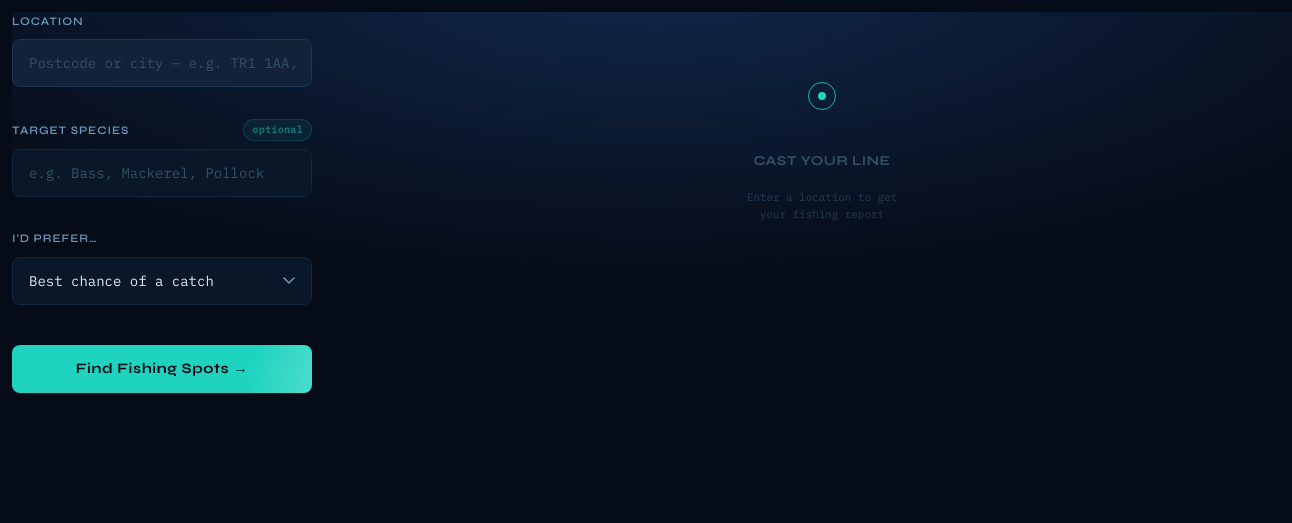
Test case: FishingForm › error state › shows a connection error message on a network failure
Type "TR1 1AA" into the field labelled "Location" at (162, 63), box left=12, top=39, right=312, bottom=87
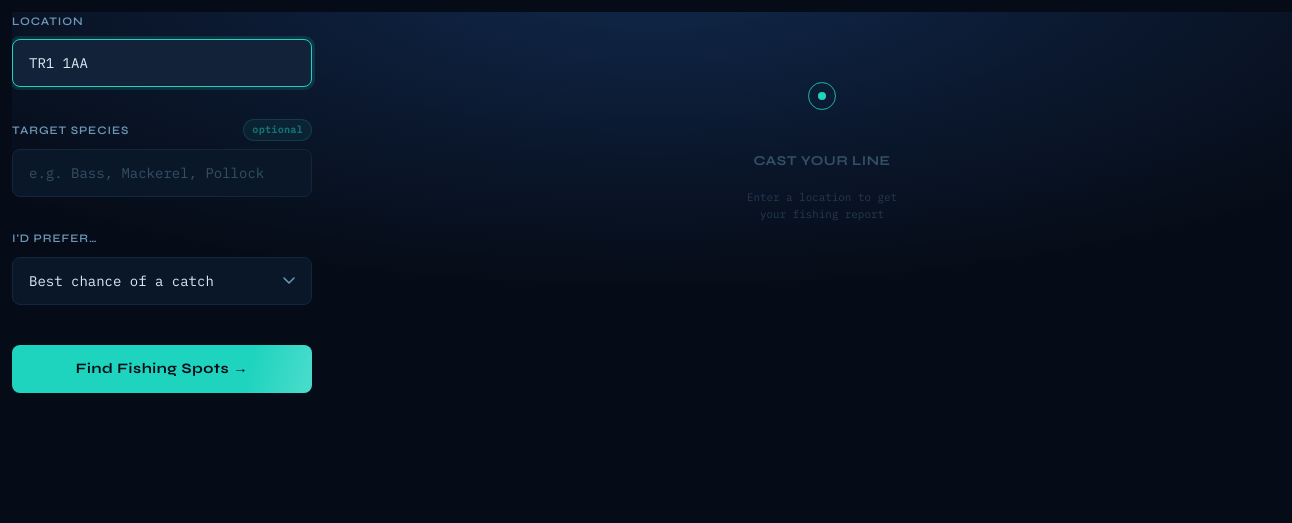
Click the button "Find Fishing Spots →" at (162, 369), box left=12, top=345, right=312, bottom=393
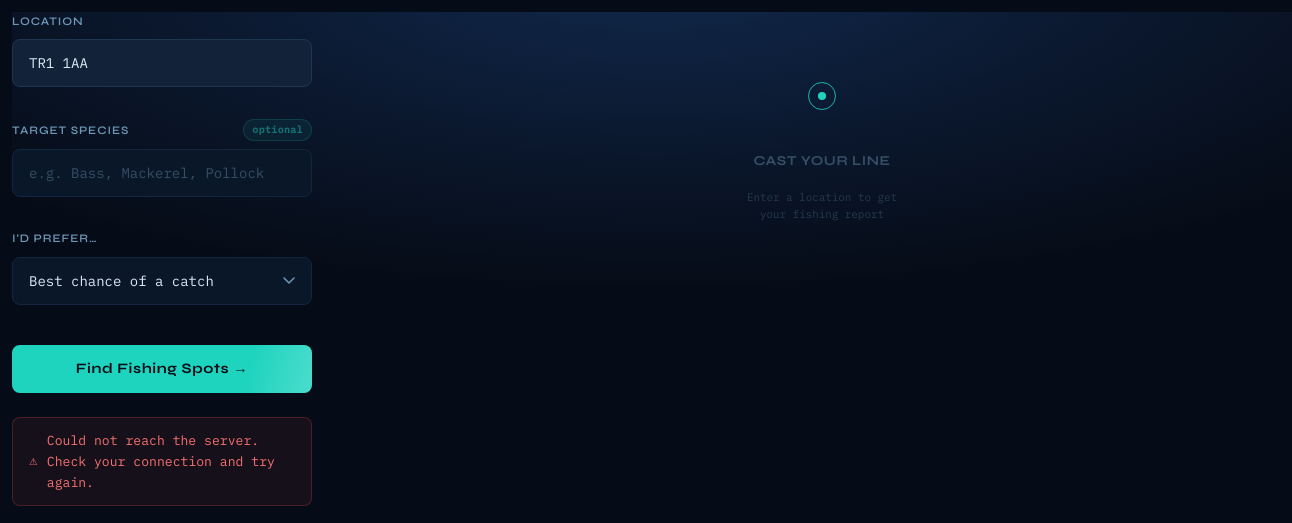
expect the message shows "Could not reach the server": met, box left=47, top=432, right=275, bottom=491
